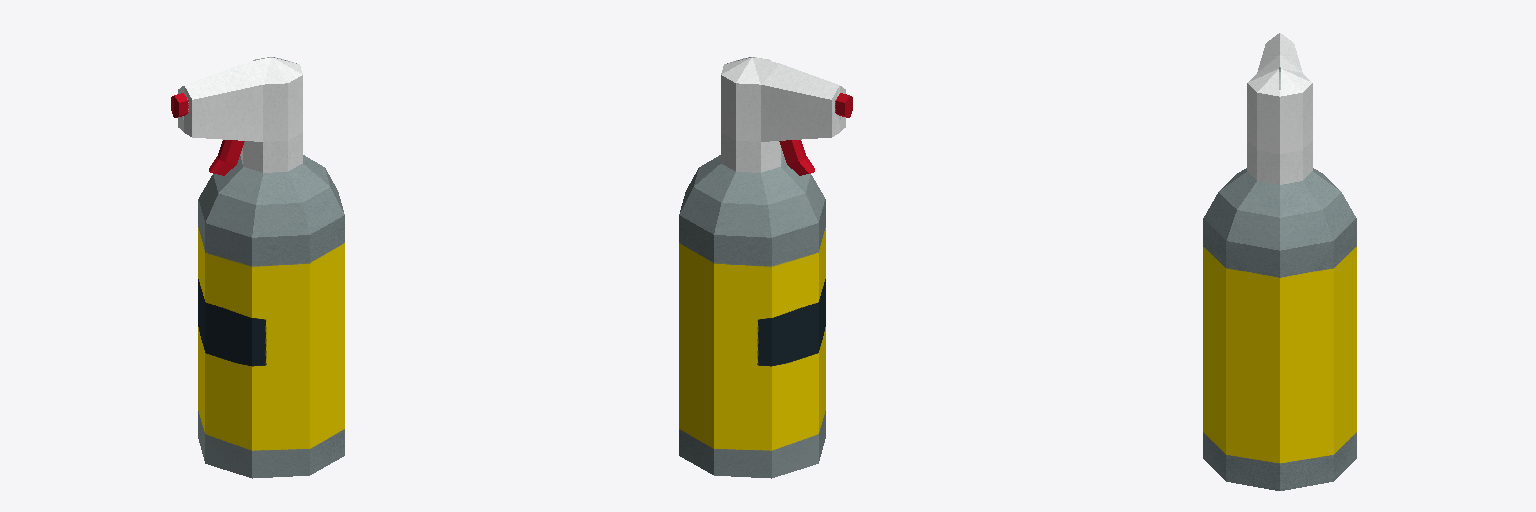
3 views of the same model, side by side, from view 1: azimuth 30°, elevation 25°; view 2: azimuth 150°, elevation 25°; view 3: azimuth 270°, elevation 25° (orthographic).
Parts seen in each view (by area): view 1: spraybottle; view 2: spraybottle; view 3: spraybottle.
Part boxes in pixels (x1,y1,x2,y2): spraybottle: (171,57,344,478); spraybottle: (679,57,852,478); spraybottle: (1203,33,1356,490).
Size of the model in its own units: 0.1644 by 0.374 by 0.1329.
Materials: 1 (1 with a texture image).